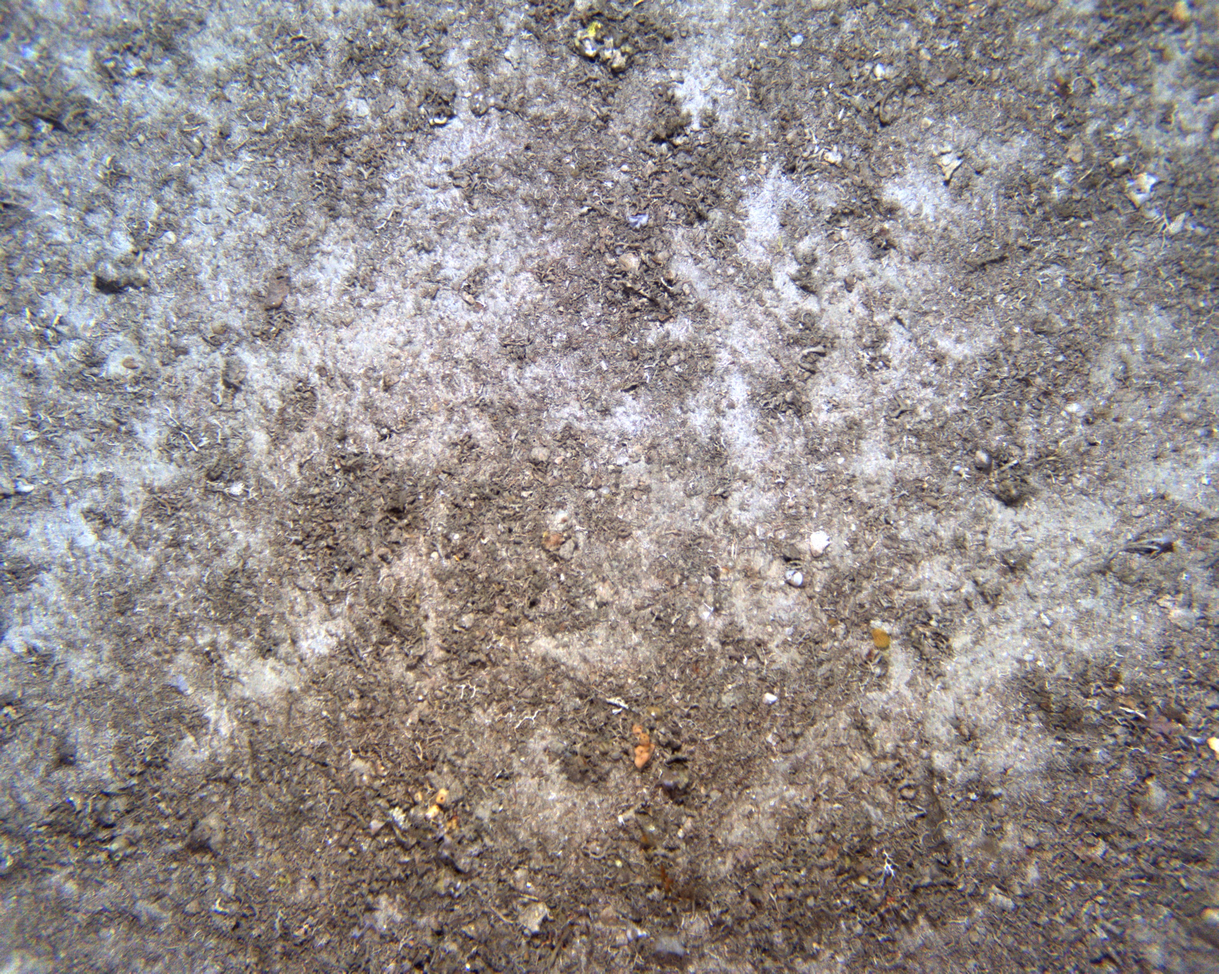Brachionichthyidae: (1102, 528, 1180, 569)
